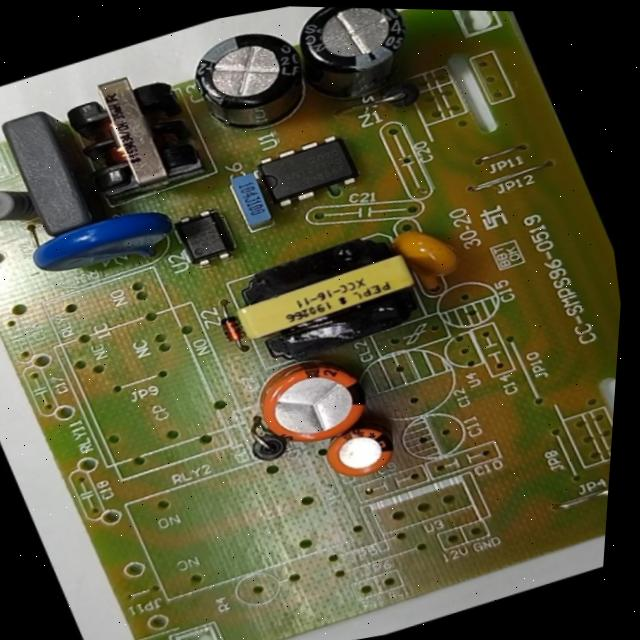Cap1: (234, 336, 400, 467)
Cap2: (303, 407, 415, 494)
Cap3: (165, 6, 335, 151)
Cap4: (270, 6, 448, 120)
MOSFET: (237, 121, 382, 223)
Mov: (10, 188, 196, 306)
Resistor: (0, 176, 40, 242)
Transformer: (205, 211, 449, 384), (41, 47, 229, 217)
